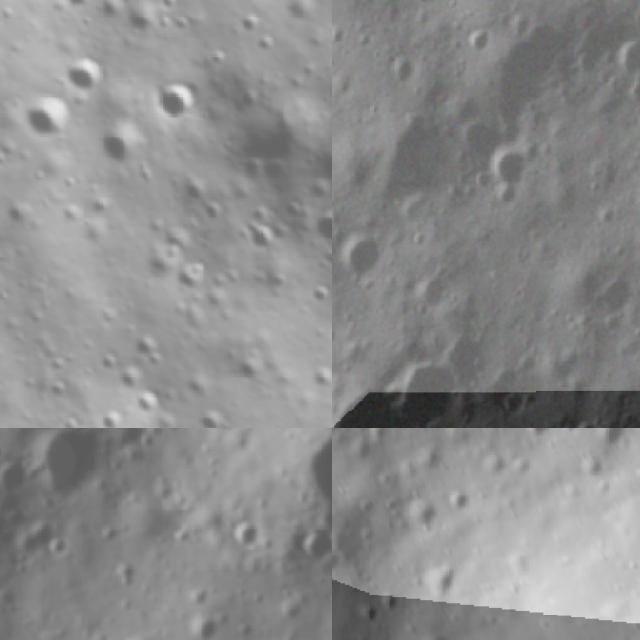crater: (480, 10, 580, 132), (365, 112, 470, 215), (32, 428, 109, 510), (332, 385, 451, 428), (393, 356, 465, 427), (16, 82, 83, 153), (52, 40, 123, 106), (92, 111, 154, 178), (332, 220, 394, 286), (474, 146, 540, 206), (148, 70, 205, 130), (123, 331, 176, 382), (482, 368, 528, 421), (222, 513, 272, 555), (293, 524, 332, 570), (304, 189, 332, 253), (114, 362, 156, 404), (126, 384, 166, 425), (423, 566, 462, 608), (0, 452, 33, 501), (185, 396, 234, 428), (607, 40, 640, 84), (185, 604, 225, 640), (595, 428, 638, 460), (406, 496, 444, 532), (310, 145, 332, 201), (95, 401, 130, 428), (448, 490, 477, 520), (117, 625, 164, 640), (521, 428, 557, 447), (57, 0, 100, 14), (332, 554, 347, 578), (557, 428, 584, 440)
